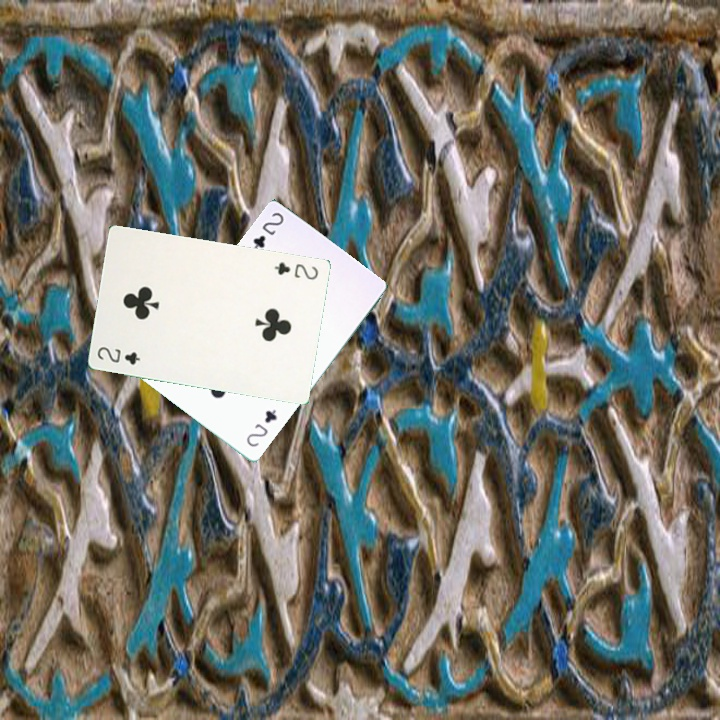2c: (242, 405, 280, 449), (249, 208, 286, 252), (93, 342, 143, 367), (270, 258, 321, 282)
